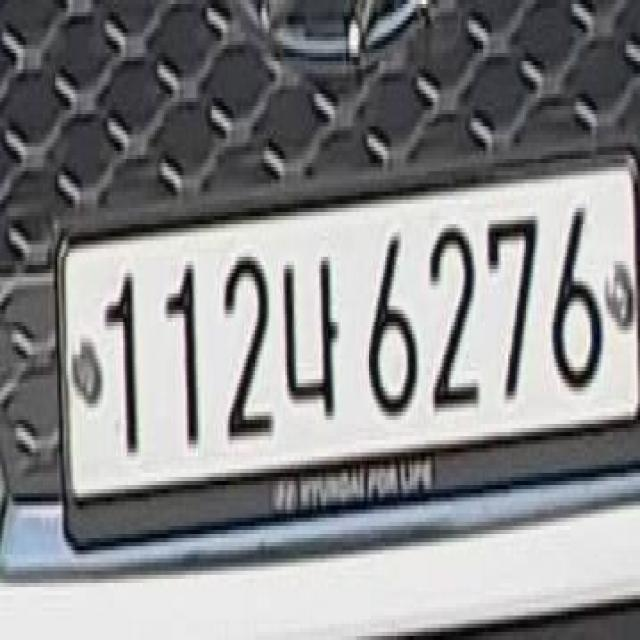illegal_plate: (60, 151, 640, 528)
